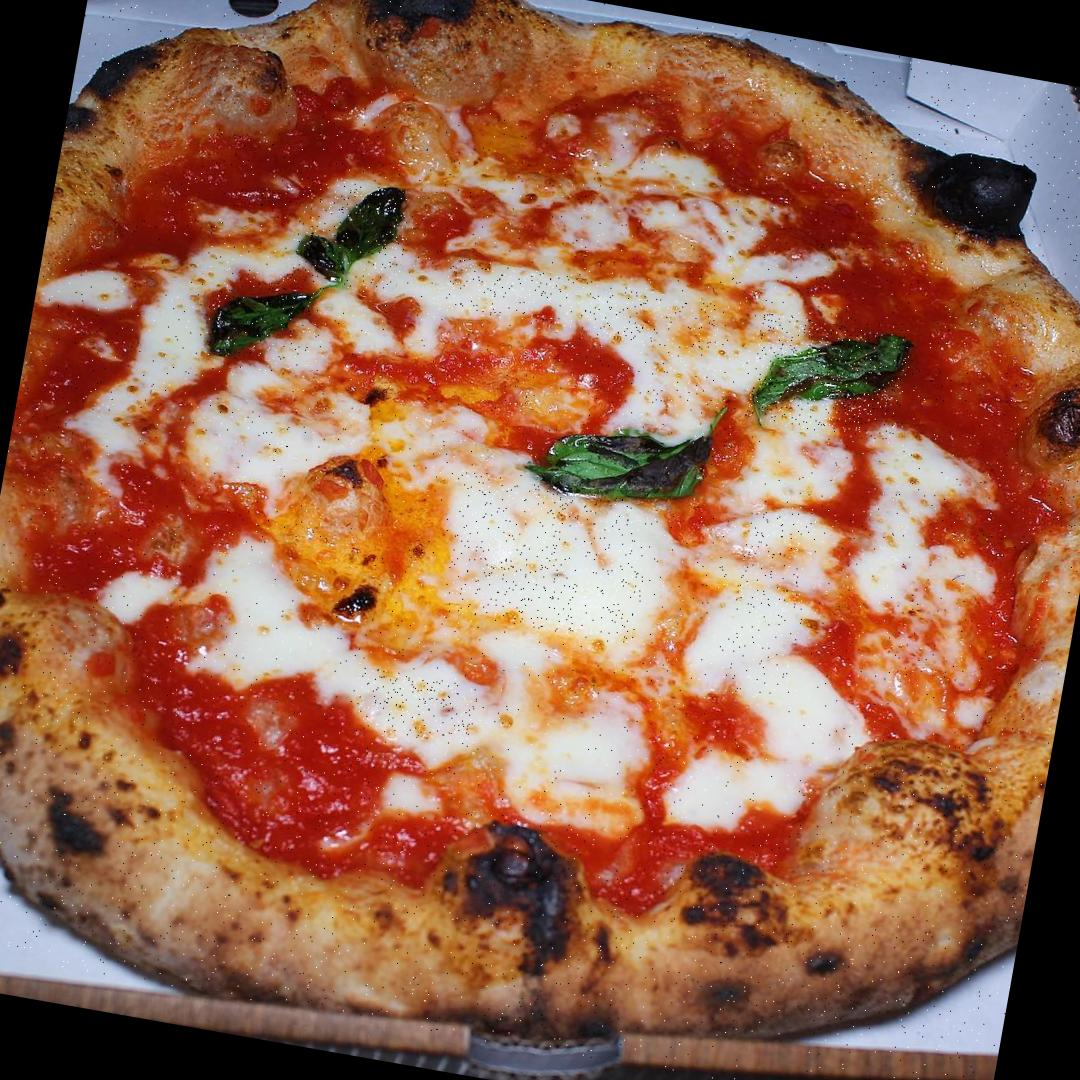Basil: (744, 312, 912, 444), (528, 413, 707, 510), (200, 261, 332, 383), (289, 172, 412, 290)
Cheese: (441, 471, 658, 646), (440, 257, 662, 346), (642, 294, 736, 415), (353, 666, 480, 747), (736, 510, 818, 614), (720, 602, 802, 704), (206, 403, 311, 482)
Pizza: (0, 0, 1080, 1080)
